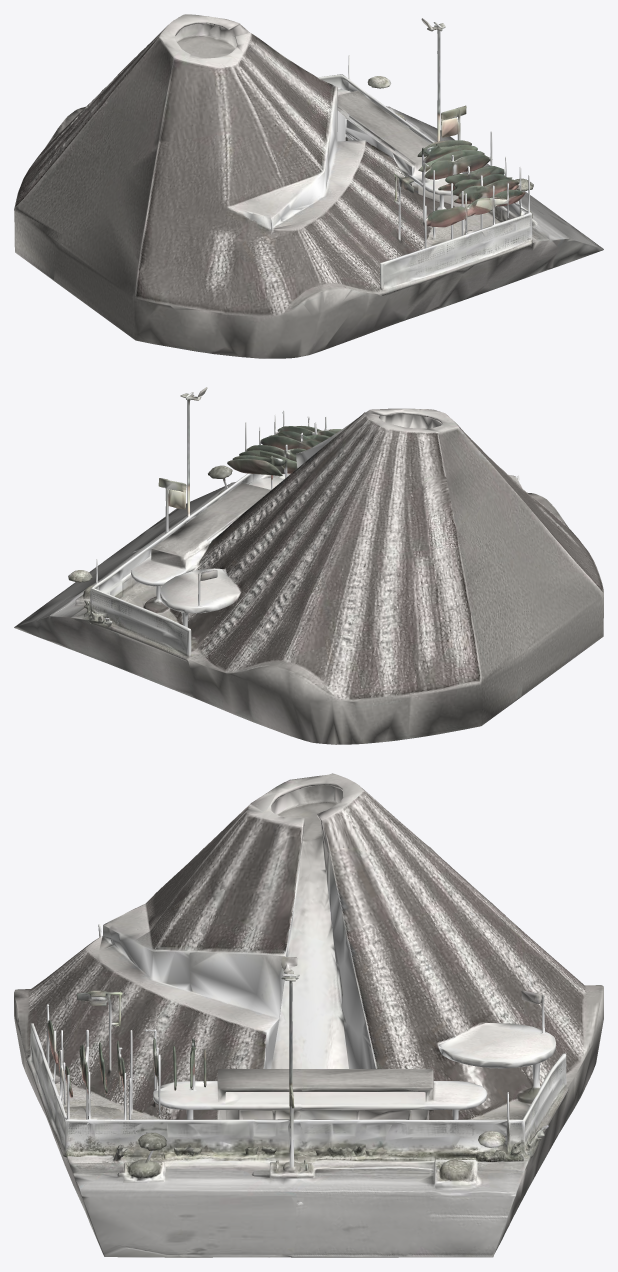
Rendered from dome.glb.
3 renders of one model, top to bottom at view 1: azimuth 30°, elevation 25°; view 2: azimuth 150°, elevation 25°; view 3: azimuth 270°, elevation 25°, orthographic. The views are drawn at different scales.
Parts seen in each view (by area): view 1: tripo_node_48544eb5-2252-4ccc-8b15-e650ea381ff9; view 2: tripo_node_48544eb5-2252-4ccc-8b15-e650ea381ff9; view 3: tripo_node_48544eb5-2252-4ccc-8b15-e650ea381ff9.
Part boxes in pixels (x1,y1,x2,y2): tripo_node_48544eb5-2252-4ccc-8b15-e650ea381ff9: [14, 14, 603, 358]; tripo_node_48544eb5-2252-4ccc-8b15-e650ea381ff9: [14, 387, 603, 744]; tripo_node_48544eb5-2252-4ccc-8b15-e650ea381ff9: [14, 773, 603, 1257].
Size of the model in its own units: 0.9998 by 0.5016 by 0.9491.
1 material, 1 textured.
